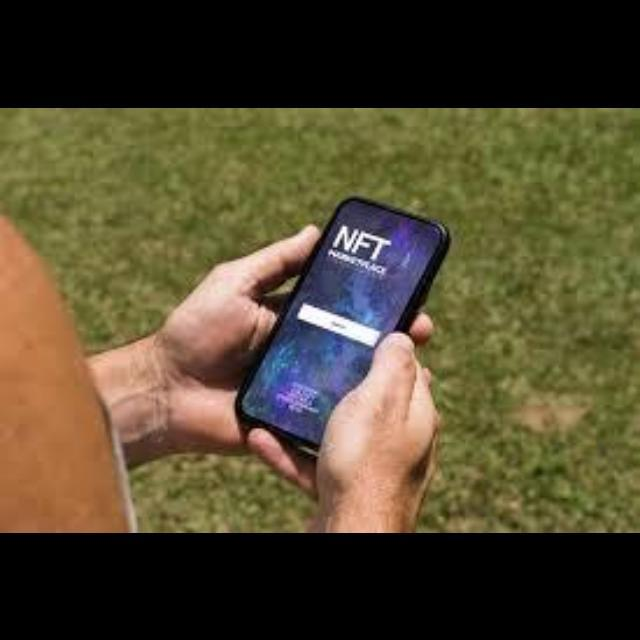Phone: (234, 196, 450, 447)
